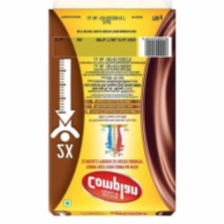carton: (43, 2, 182, 219)
